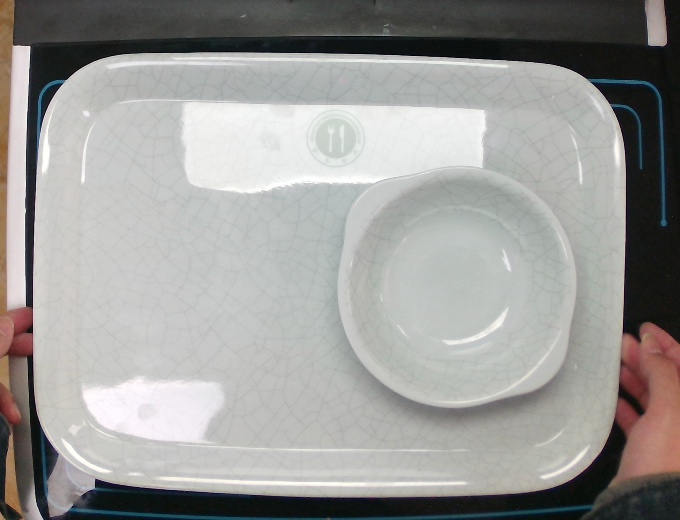JYsf-Shuang_Er_Wan: (338, 162, 577, 412)
